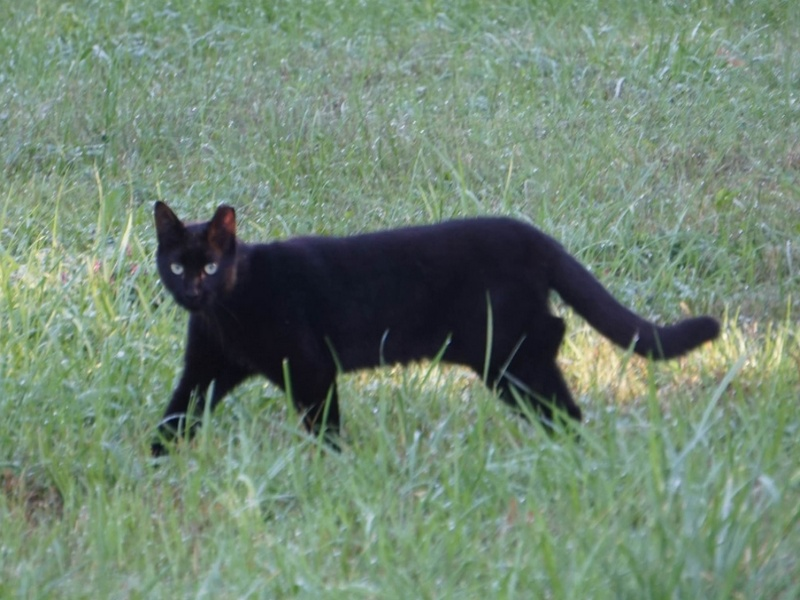cat: (133, 196, 721, 447)
